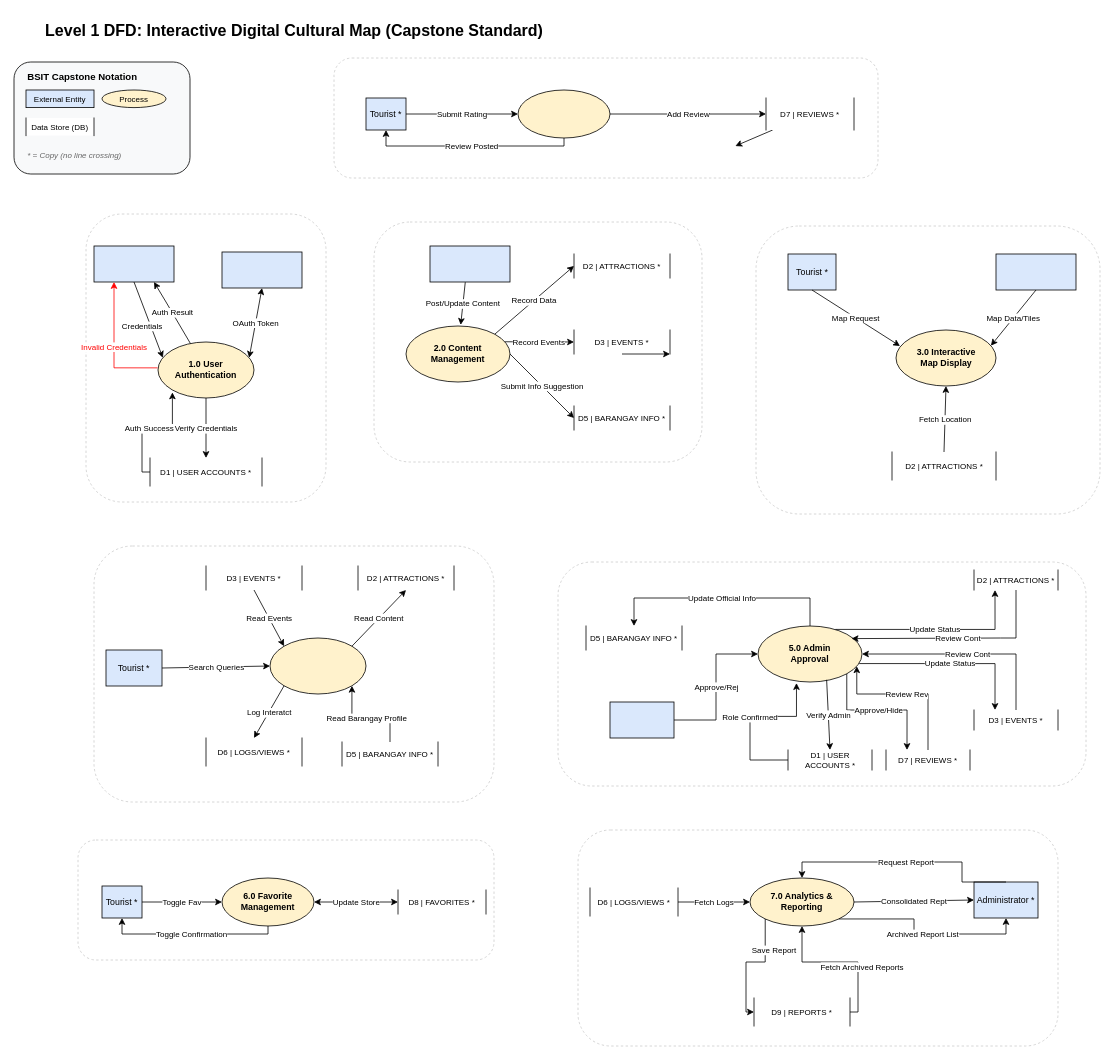
The diagram is 1114 pixels wide and 1060 high, and some of its shapes have lost their labels. The shapes that lost their labels are listed below. From the top down, each one's centre as x and y in pixels, then its label:
point (563, 113): 8.0 Review & Feedback
point (133, 263): Tourist / Contributor / Admin *
point (261, 269): Google OAuth *
point (469, 263): Contributor *
point (1035, 271): Mapbox API *
point (317, 665): 4.0 Content Discovery
point (641, 719): Administrator
